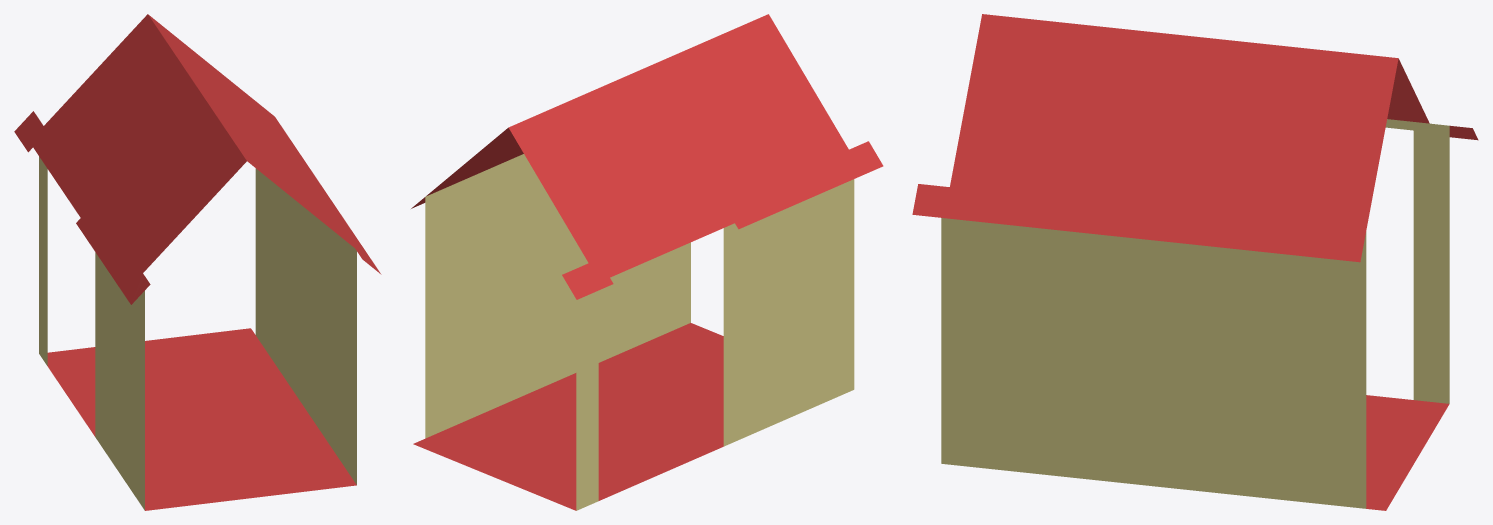
3 views of the same model, side by side, from view 1: azimuth 30°, elevation 25°; view 2: azimuth 150°, elevation 25°; view 3: azimuth 270°, elevation 25° (orthographic). The views are drawn at different scales.
Bounding box in the file's own units: 12.99 × 17.85 × 13.78.
